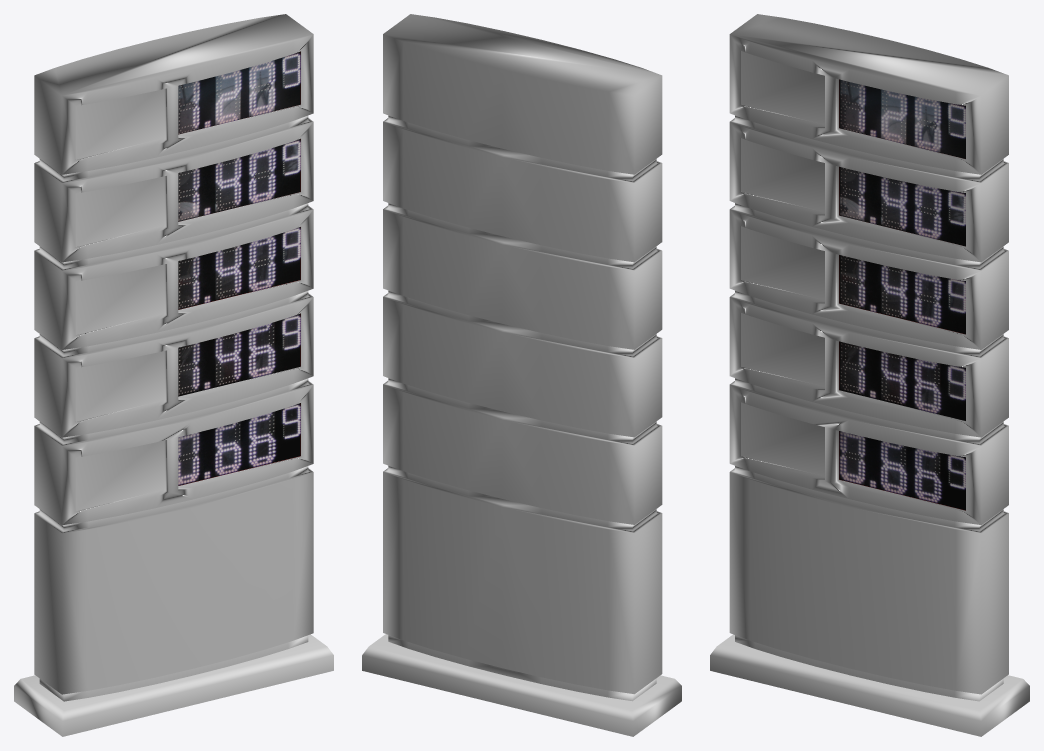
The model's file is tankstelle_preistafel_01.fbx.
The picture shows the model from 3 angles, left to right: view 1: azimuth 30°, elevation 25°; view 2: azimuth 150°, elevation 25°; view 3: azimuth 330°, elevation 25°; orthographic projection.
Visible parts, largest first — view 1: Mesh; view 2: Mesh; view 3: Mesh.
Boxes of the visible parts, bbox=[...] form: Mesh: bbox=[14, 14, 333, 736]; Mesh: bbox=[362, 14, 681, 736]; Mesh: bbox=[710, 14, 1029, 736].
Bounding box in the file's own units: 234 × 519 × 72.41.
